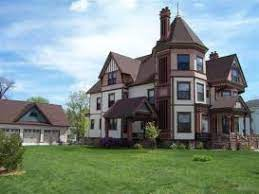Building House: (86, 19, 253, 147), (4, 94, 70, 146)
